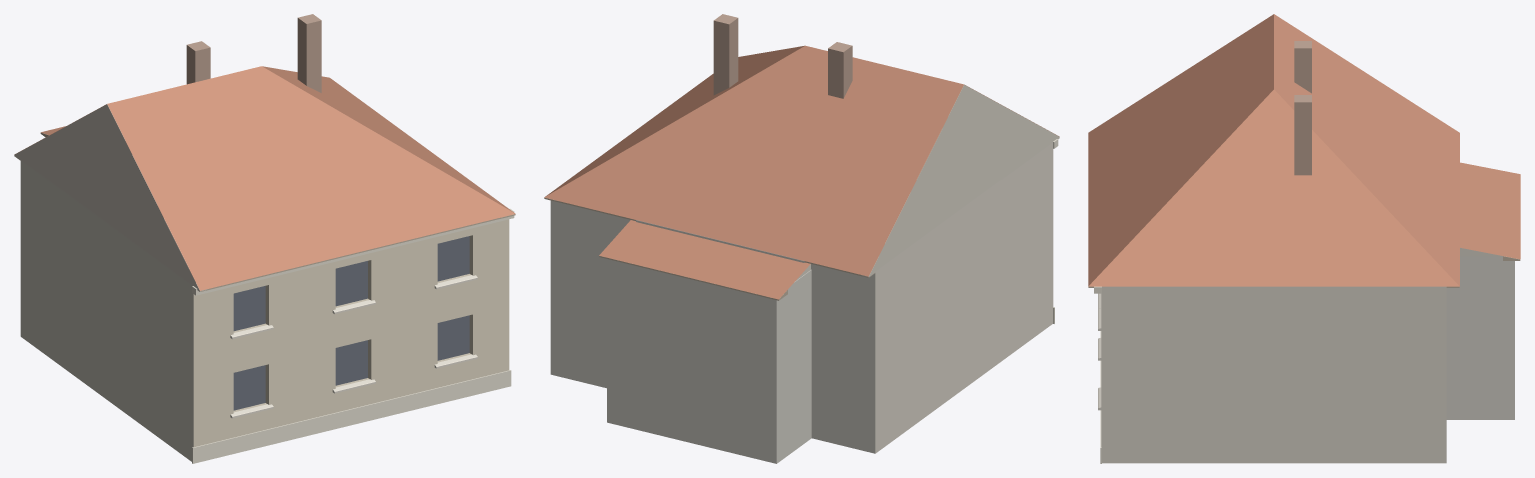
3 views of the same model, side by side, from view 1: azimuth 30°, elevation 25°; view 2: azimuth 150°, elevation 25°; view 3: azimuth 270°, elevation 25° (orthographic). The views are drawn at different scales.
Visible parts, largest first — view 1: CP_1813_Masonry, CP_1813_Roof, CP_1813_Gable_L_gable, CP_1813_Cornice_plinth_0, CP_1813_Chimney_1, CP_1813_Cornice_main_0, CP_1813_Chimney_0, CP_1813_Roof_EaveClosure_0; view 2: CP_1813_Roof, CP_1813_Masonry, CP_1813_Rear_Stair, CP_1813_Gable_L_gable, CP_1813_WingRoof_Rear_Stair, CP_1813_Chimney_1, CP_1813_Chimney_0, CP_1813_AtticClosure_1; view 3: CP_1813_Roof, CP_1813_Masonry, CP_1813_Rear_Stair, CP_1813_WingRoof_Rear_Stair, CP_1813_Chimney_1, CP_1813_Chimney_0.
Part boxes in pixels (x1=…): CP_1813_Masonry: x1=20, y1=160, x2=509, y2=461; CP_1813_Roof: x1=14, y1=66, x2=515, y2=290; CP_1813_Gable_L_gable: x1=14, y1=104, x2=207, y2=291; CP_1813_Cornice_plinth_0: x1=192, y1=370, x2=511, y2=463; CP_1813_Chimney_1: x1=297, y1=14, x2=321, y2=92; CP_1813_Cornice_main_0: x1=192, y1=208, x2=514, y2=295; CP_1813_Chimney_0: x1=186, y1=41, x2=210, y2=84; CP_1813_Roof_EaveClosure_0: x1=197, y1=218, x2=500, y2=291; CP_1813_Roof: x1=544, y1=45, x2=1059, y2=276; CP_1813_Masonry: x1=550, y1=143, x2=1053, y2=453; CP_1813_Rear_Stair: x1=607, y1=259, x2=811, y2=463; CP_1813_Gable_L_gable: x1=861, y1=85, x2=1059, y2=277; CP_1813_WingRoof_Rear_Stair: x1=599, y1=220, x2=810, y2=299; CP_1813_Chimney_1: x1=713, y1=14, x2=738, y2=95; CP_1813_Chimney_0: x1=828, y1=42, x2=852, y2=98; CP_1813_AtticClosure_1: x1=636, y1=220, x2=810, y2=281; CP_1813_Roof: x1=1088, y1=14, x2=1459, y2=286; CP_1813_Masonry: x1=1101, y1=286, x2=1446, y2=463; CP_1813_Rear_Stair: x1=1446, y1=256, x2=1514, y2=419; CP_1813_WingRoof_Rear_Stair: x1=1460, y1=162, x2=1520, y2=259; CP_1813_Chimney_1: x1=1294, y1=95, x2=1311, y2=175; CP_1813_Chimney_0: x1=1294, y1=41, x2=1311, y2=93.
Bounding box in the file's own units: 12.6 × 12 × 14.85.
